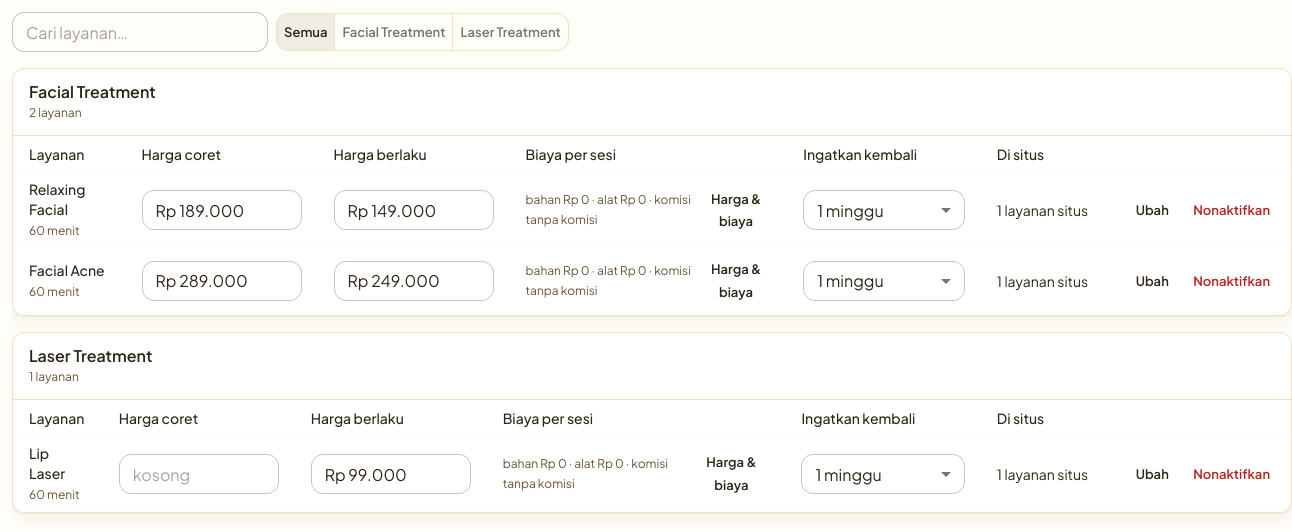
Test: ServicePriceTable (spec D 5.4) › harga dalam rupiah; Simpan dan Batal hanya di baris yang diubah
Expected: the element "Facial Treatment" shows "2 layanan", [29,105,82,120]
Expected: the button "Simpan" is not shown
Replace the text in the field named "Harga berlaku Relaxing Facial" with "159000": (414, 210) [334,190,494,230]
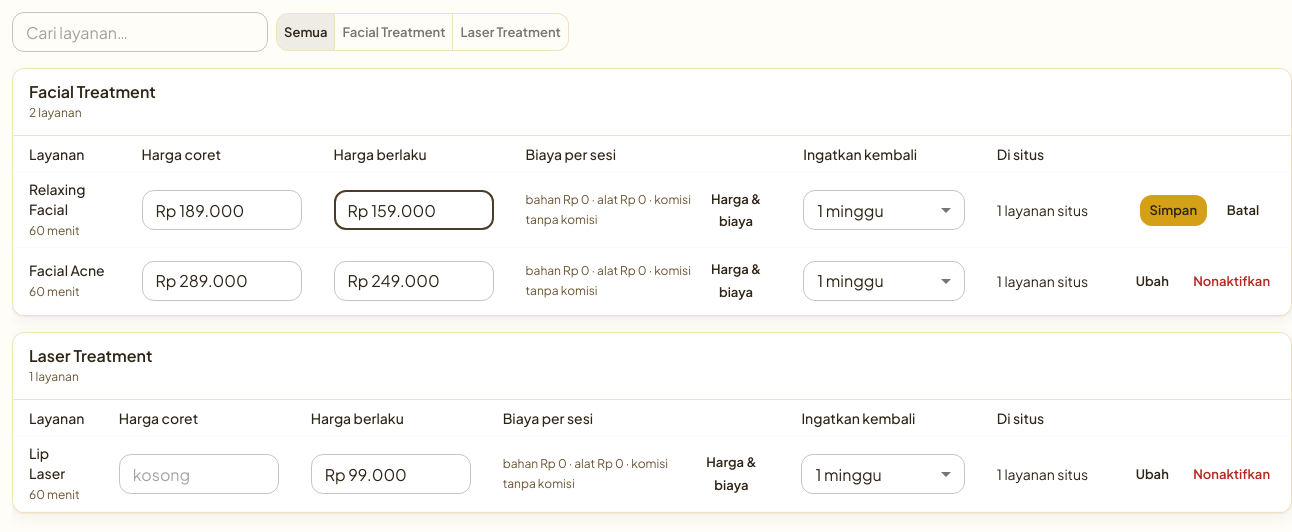
Expected: the button "Batal" is shown, [1211,195,1275,226]
Click the button "Simpan": (1173, 210) [1140,195,1207,226]
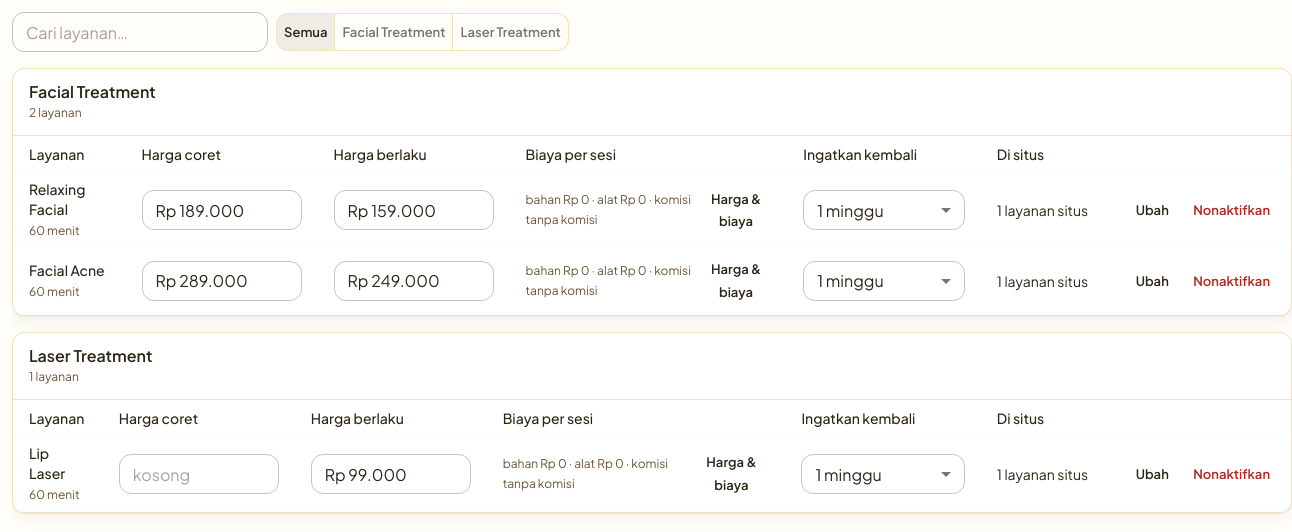
Expected: the button "Simpan" is gone
